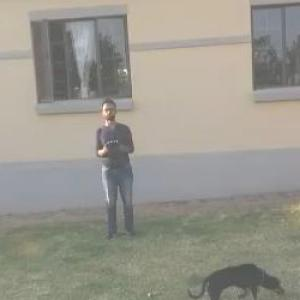follow: (94, 94, 142, 252)
null: (181, 256, 293, 298)
